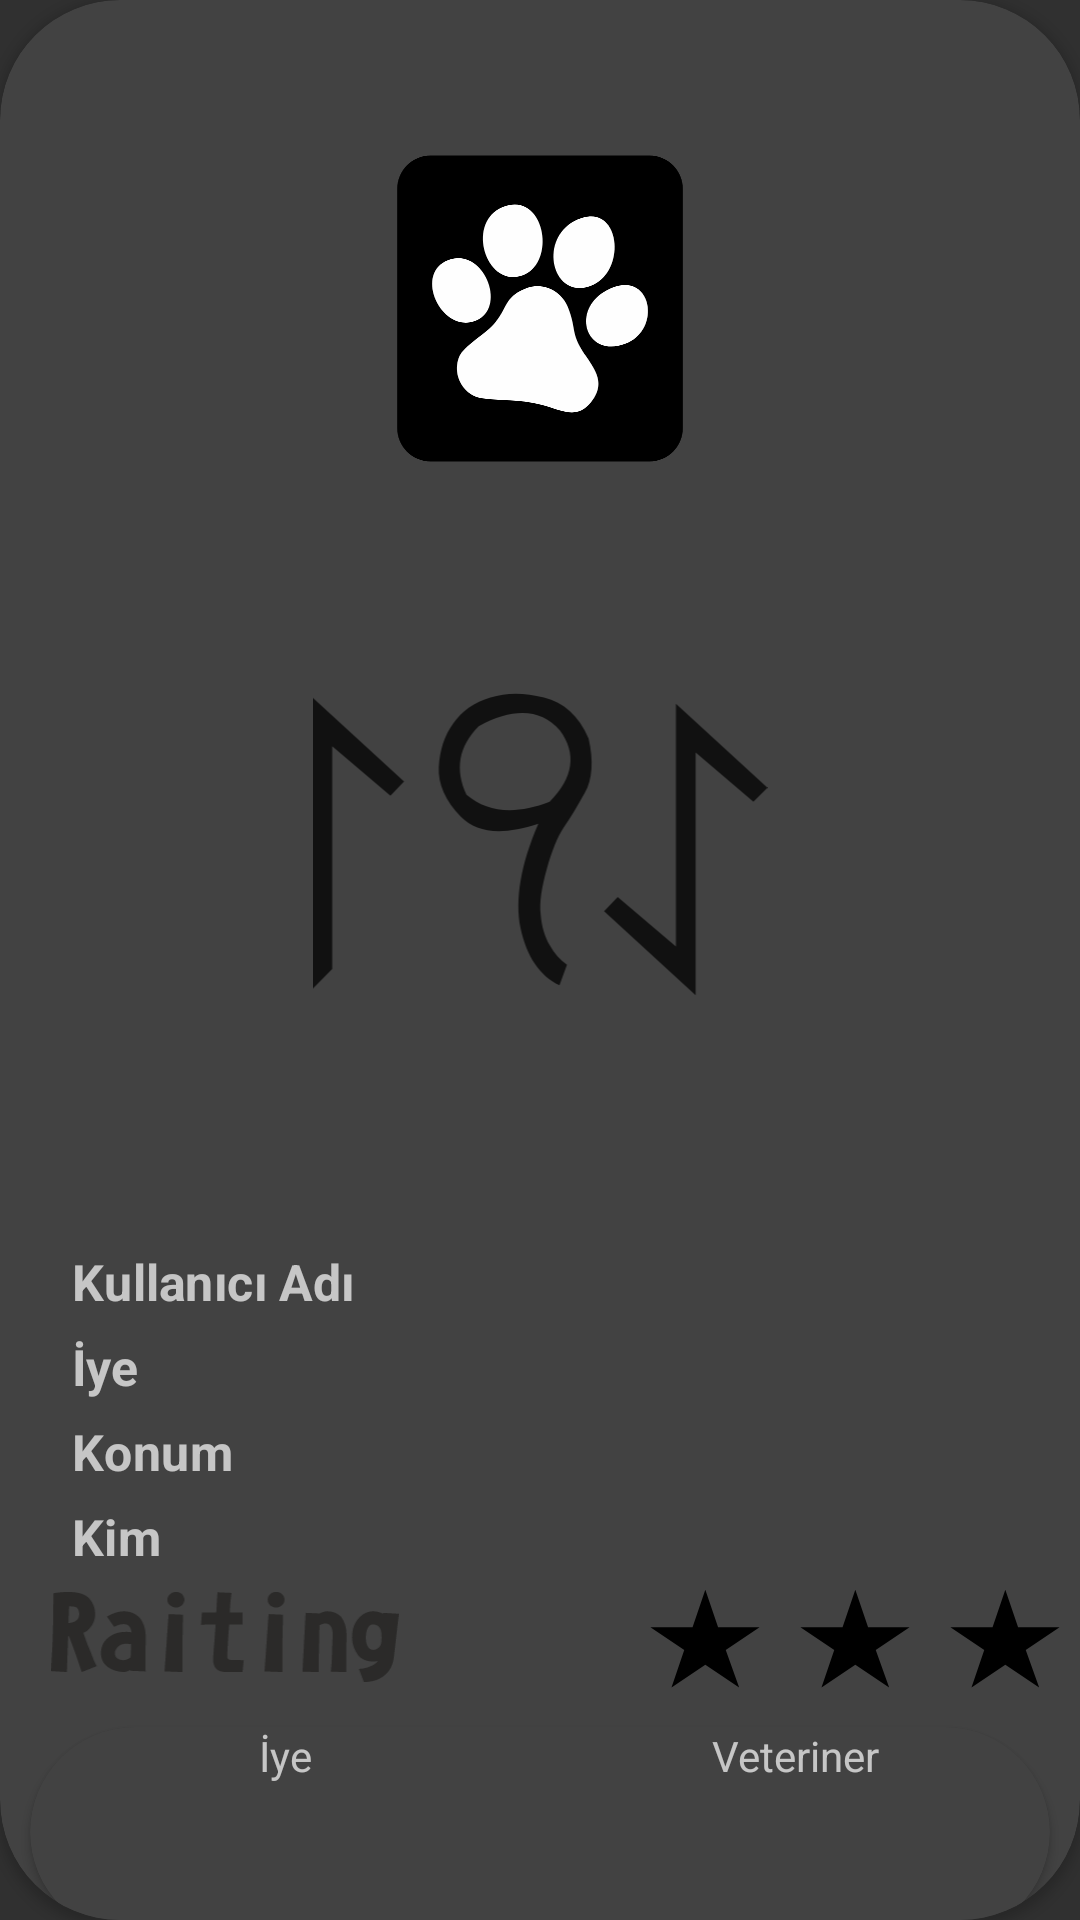

Icon click points for this 1080w x 1920h phone screenshot, format [x,y]:
star: [705,1638], [855,1638], [1005,1638]
